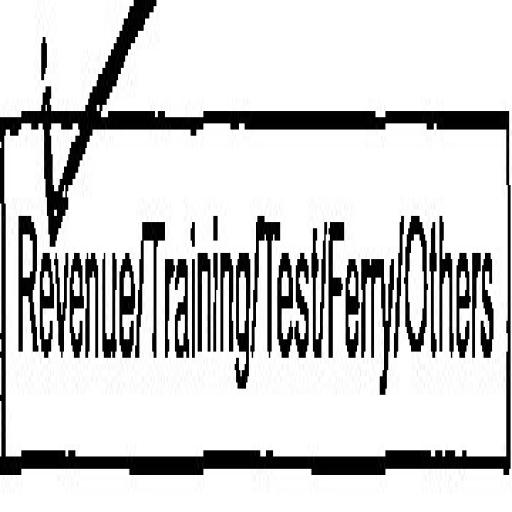check: (0, 0, 146, 494)
